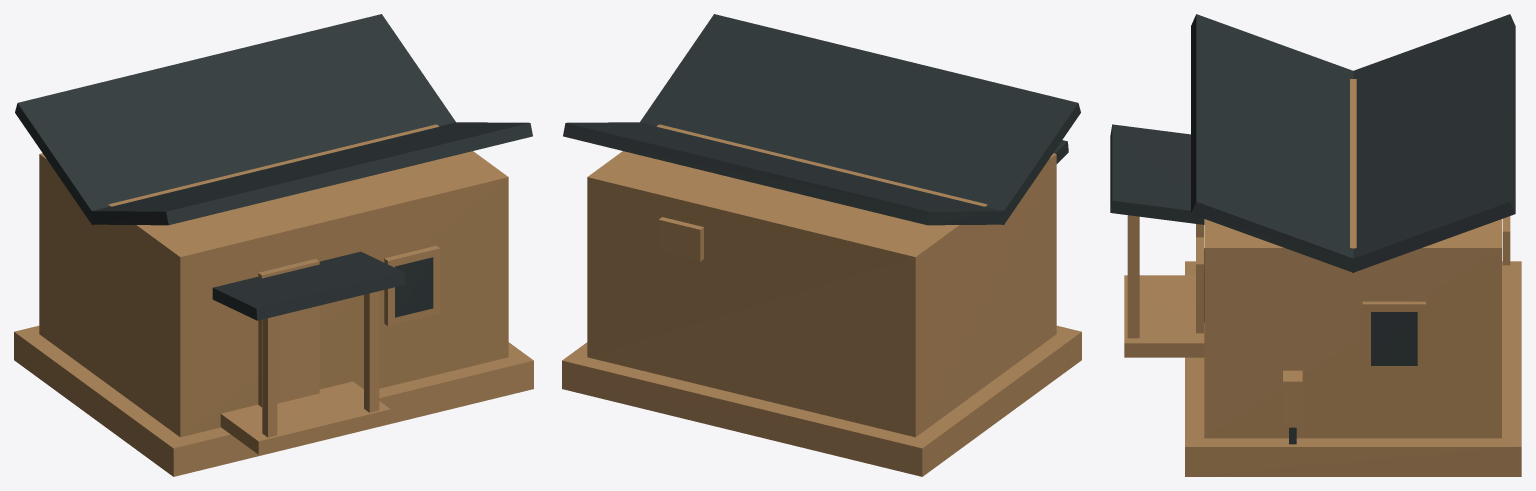
The model's file is Worker-Cabin.glb.
3 views of the same model, side by side, from view 1: azimuth 30°, elevation 25°; view 2: azimuth 150°, elevation 25°; view 3: azimuth 270°, elevation 25° (orthographic). The views are drawn at different scales.
Visible parts, largest first — view 1: worker-cabin-static-worker-cabin-warm-board-walls, worker-cabin-static-worker-cabin-charcoal-roof, worker-cabin-static-worker-cabin-pale-foundation, worker-cabin-static-worker-cabin-pale-trim, worker-cabin-static-worker-cabin-muted-teal-fixtures; view 2: worker-cabin-static-worker-cabin-warm-board-walls, worker-cabin-static-worker-cabin-charcoal-roof, worker-cabin-static-worker-cabin-pale-foundation, worker-cabin-static-worker-cabin-pale-trim; view 3: worker-cabin-static-worker-cabin-charcoal-roof, worker-cabin-static-worker-cabin-warm-board-walls, worker-cabin-static-worker-cabin-pale-foundation, worker-cabin-static-worker-cabin-pale-trim, worker-cabin-static-worker-cabin-muted-teal-fixtures.
Boxes of the visible parts, <box> form: worker-cabin-static-worker-cabin-warm-board-walls: <box>39,124,508,437</box>; worker-cabin-static-worker-cabin-charcoal-roof: <box>15,14,532,320</box>; worker-cabin-static-worker-cabin-pale-foundation: <box>14,325,533,476</box>; worker-cabin-static-worker-cabin-pale-trim: <box>262,245,439,437</box>; worker-cabin-static-worker-cabin-muted-teal-fixtures: <box>258,258,319,407</box>; worker-cabin-static-worker-cabin-warm-board-walls: <box>587,124,1056,437</box>; worker-cabin-static-worker-cabin-charcoal-roof: <box>563,14,1080,225</box>; worker-cabin-static-worker-cabin-pale-foundation: <box>562,325,1081,476</box>; worker-cabin-static-worker-cabin-pale-trim: <box>658,217,703,261</box>; worker-cabin-static-worker-cabin-charcoal-roof: <box>1110,14,1515,444</box>; worker-cabin-static-worker-cabin-warm-board-walls: <box>1204,79,1501,438</box>; worker-cabin-static-worker-cabin-pale-foundation: <box>1124,261,1521,476</box>; worker-cabin-static-worker-cabin-pale-trim: <box>1127,215,1510,373</box>; worker-cabin-static-worker-cabin-muted-teal-fixtures: <box>1196,224,1302,427</box>.
Size of the model in its own units: 4.6 by 3.12 by 4.21.
